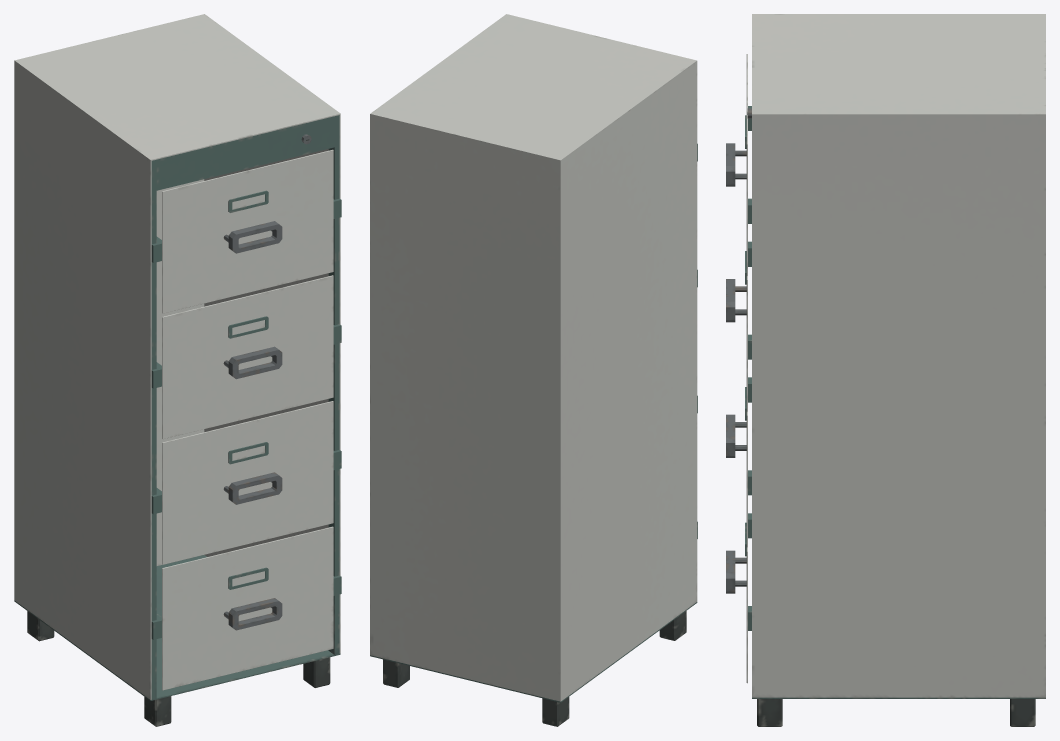
The model's file is office_furniture_cabinet.glb.
3 renders of one model, left to right at view 1: azimuth 30°, elevation 25°; view 2: azimuth 150°, elevation 25°; view 3: azimuth 270°, elevation 25°, orthographic. The views are drawn at different scales.
Parts seen in each view (by area): view 1: OfficeFurnitureCabinet; view 2: OfficeFurnitureCabinet; view 3: OfficeFurnitureCabinet.
Boxes of the visible parts, x1,y1,x2,y2 form: OfficeFurnitureCabinet: (14, 14, 341, 726); OfficeFurnitureCabinet: (370, 14, 697, 726); OfficeFurnitureCabinet: (726, 14, 1045, 726).
Size of what is drawn, in the model's own units: 0.46 by 1.32 by 0.62.
Materials: 1 (1 with a texture image).
